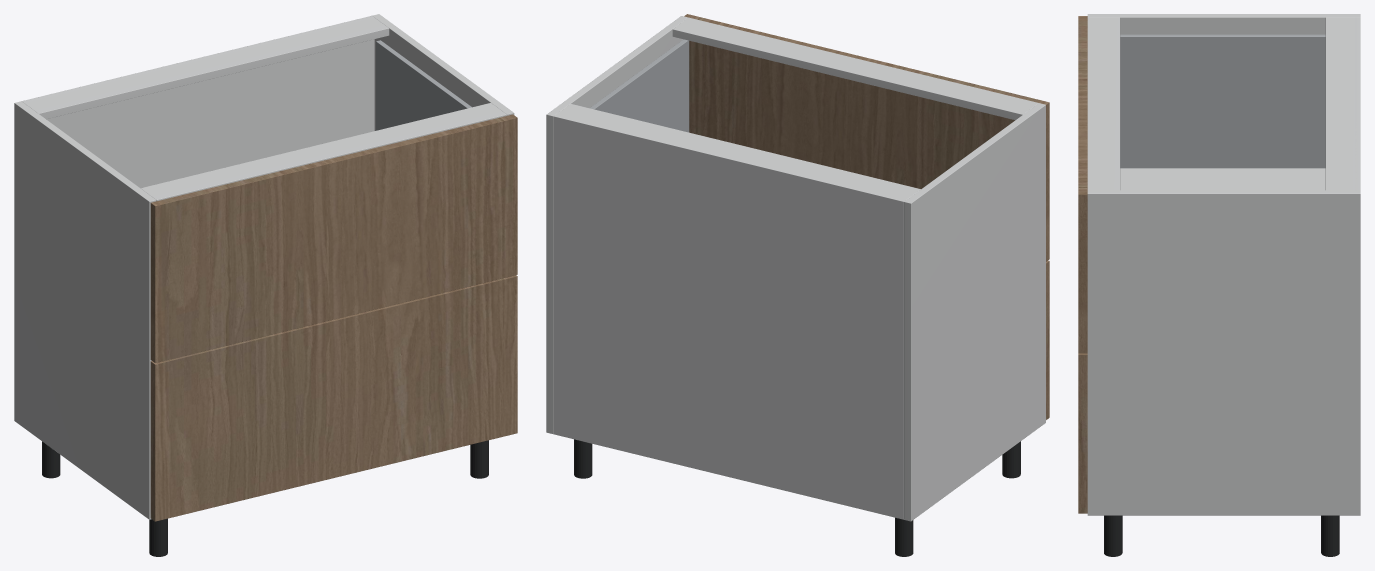
Rendered from oppein-ply-mnw-2db36.glb.
3 views of the same model, side by side, from view 1: azimuth 30°, elevation 25°; view 2: azimuth 150°, elevation 25°; view 3: azimuth 270°, elevation 25° (orthographic).
Visible parts, largest first — view 1: Drawer front.001, Drawer front, Cabinet side, Cabinet back, Top support rail, Top support rail.001, Drawer side.003, Cabinet side.001, Adjustable foot.001, Adjustable foot.003; view 2: Cabinet back, Cabinet side, Drawer front.001, Top support rail.001, Cabinet side.001, Top support rail, Drawer side.003, Adjustable foot, Adjustable foot.002, Drawer front; view 3: Cabinet side.001, Drawer side.002, Top support rail.001, Top support rail, Drawer floor.001, Cabinet side, Drawer front.001, Drawer front, Cabinet back, Adjustable foot.003, Adjustable foot.002.
Boxes of the visible parts, left/top/right/bottom form: Drawer front.001: left=150, top=114, right=517, bottom=362; Drawer front: left=150, top=275, right=517, bottom=521; Cabinet side: left=14, top=101, right=156, bottom=519; Cabinet back: left=21, top=15, right=374, bottom=188; Top support rail: left=24, top=17, right=389, bottom=119; Top support rail.001: left=141, top=103, right=506, bottom=201; Drawer side.003: left=376, top=40, right=471, bottom=130; Cabinet side.001: left=372, top=14, right=514, bottom=130; Adjustable foot.001: left=149, top=518, right=167, bottom=556; Adjustable foot.003: left=470, top=440, right=488, bottom=478; Cabinet back: left=553, top=114, right=905, bottom=519; Cabinet side: left=904, top=103, right=1045, bottom=521; Drawer front.001: left=684, top=14, right=1049, bottom=261; Top support rail.001: left=672, top=17, right=1038, bottom=120; Cabinet side.001: left=546, top=16, right=688, bottom=434; Top support rail: left=556, top=104, right=920, bottom=199; Drawer side.003: left=590, top=39, right=689, bottom=132; Adjustable foot: left=895, top=517, right=913, bottom=556; Adjustable foot.002: left=574, top=439, right=592, bottom=478; Drawer front: left=1046, top=260, right=1049, bottom=419; Cabinet side.001: left=1087, top=190, right=1360, bottom=515; Drawer side.002: left=1120, top=34, right=1325, bottom=168; Top support rail.001: left=1087, top=17, right=1120, bottom=190; Top support rail: left=1325, top=17, right=1357, bottom=190; Drawer floor.001: left=1120, top=168, right=1325, bottom=190; Cabinet side: left=1087, top=14, right=1360, bottom=34; Drawer front.001: left=1078, top=16, right=1087, bottom=353; Drawer front: left=1078, top=353, right=1087, bottom=513; Cabinet back: left=1355, top=17, right=1360, bottom=190; Adjustable foot.003: left=1104, top=515, right=1122, bottom=556; Adjustable foot.002: left=1321, top=515, right=1339, bottom=556.
Bounding box in the file's own units: 0.9144 × 0.8763 × 0.6064.
Materials: 4 (1 with a texture image).
